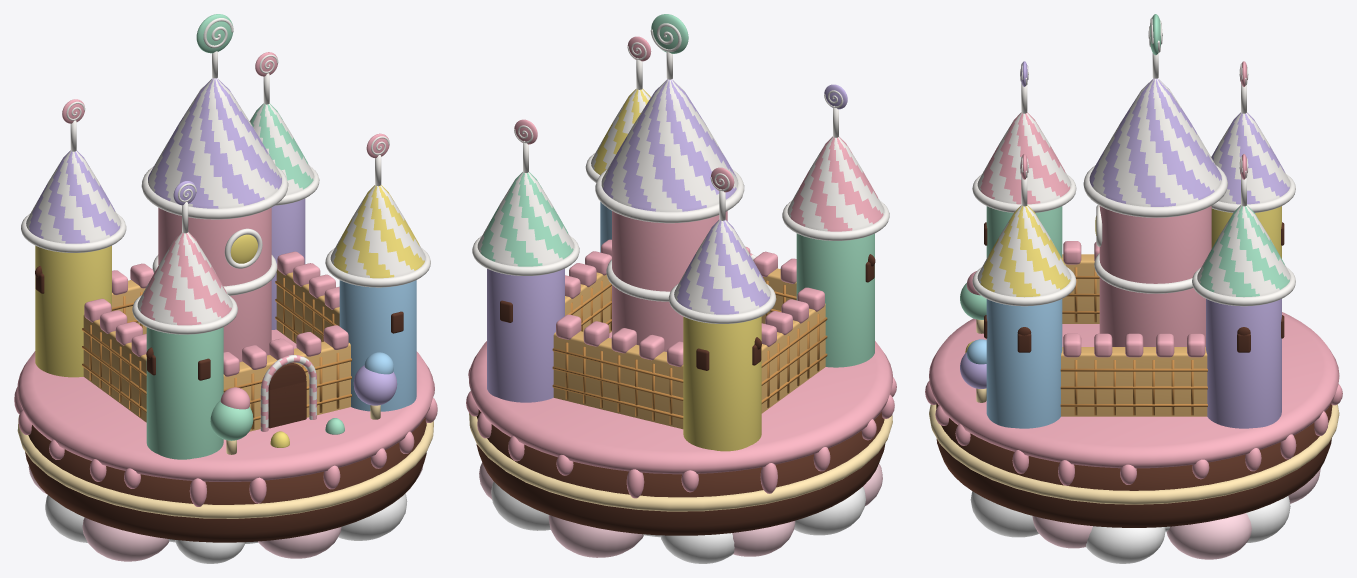
Rendered from candy_castle.glb.
The picture shows the model from 3 angles, left to right: view 1: azimuth 30°, elevation 25°; view 2: azimuth 150°, elevation 25°; view 3: azimuth 270°, elevation 25°; orthographic projection. The views are drawn at different scales.
Parts seen in each view (by area): view 1: candy_castle; view 2: candy_castle; view 3: candy_castle.
Part boxes in pixels (<box>): candy_castle: <box>14,14,437,563</box>; candy_castle: <box>466,14,896,563</box>; candy_castle: <box>925,14,1342,563</box>.
Bounding box in the file's own units: 9.7 × 12.41 × 9.71.
